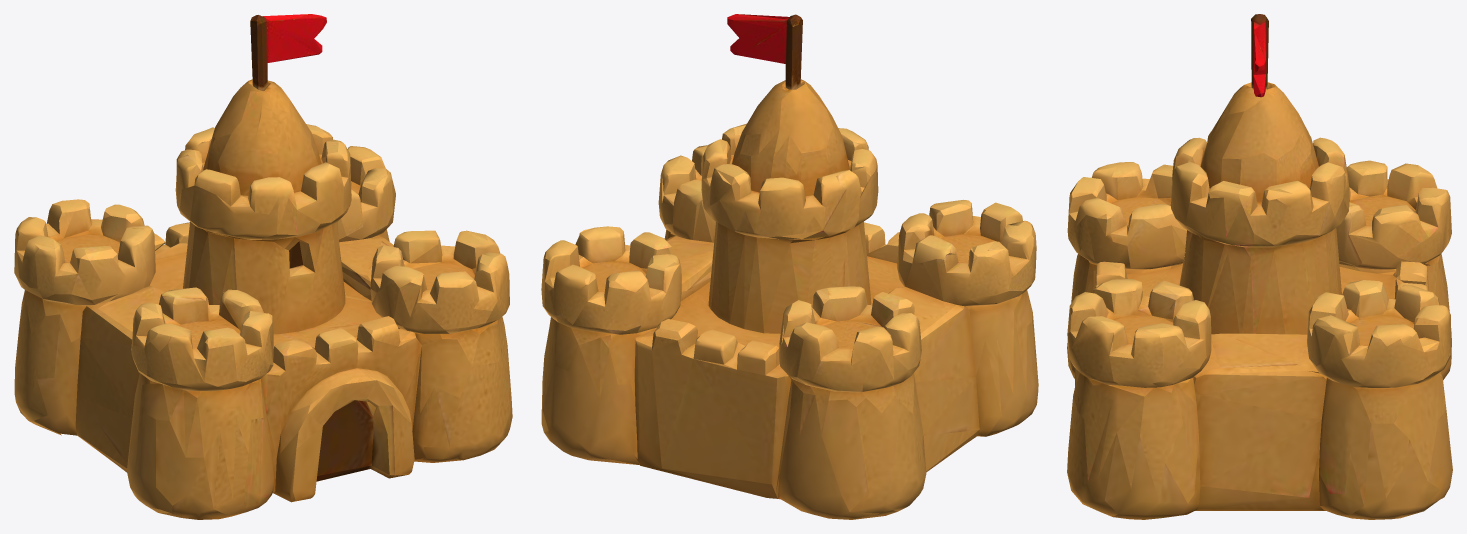
File: strand-sandslot.glb
3 renders of one model, left to right at view 1: azimuth 30°, elevation 25°; view 2: azimuth 150°, elevation 25°; view 3: azimuth 270°, elevation 25°, orthographic. The views are drawn at different scales.
Size of the model in its own units: 1.77 by 1.9 by 1.58.
1 material, 1 textured.
